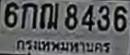3: (96, 4, 109, 30)
4: (81, 3, 93, 30)
6: (4, 1, 18, 26), (113, 5, 126, 31)
8: (64, 3, 77, 29)
A01: (20, 2, 37, 28)
A12: (39, 1, 58, 28)
BKK: (14, 35, 112, 55)
